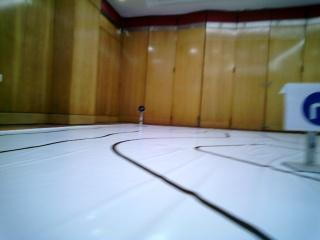right: (284, 83, 320, 128)
